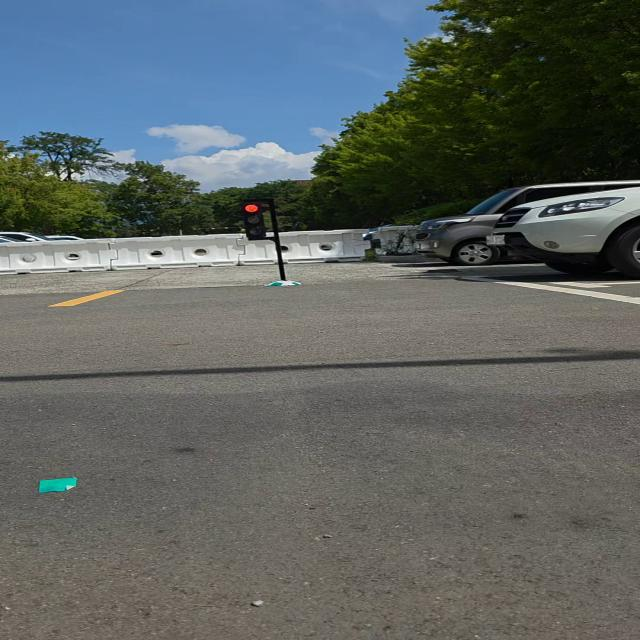red: (236, 203, 274, 239)
